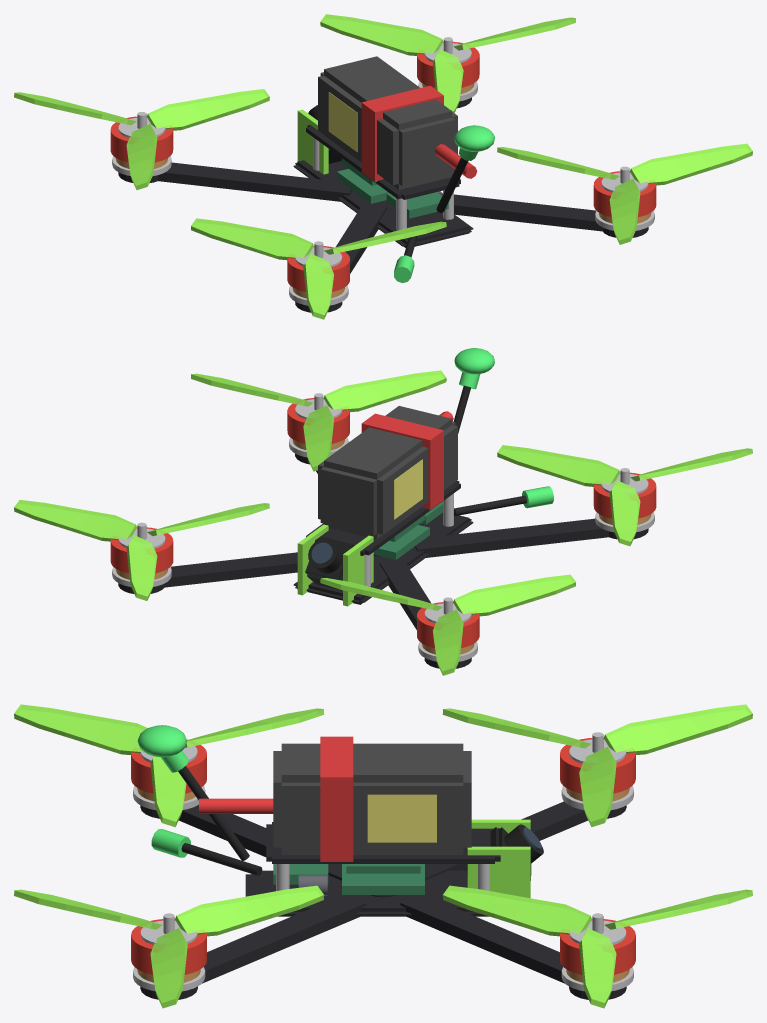
Rendered from racer5.glb.
The picture shows the model from 3 angles, top to bottom: view 1: azimuth 30°, elevation 25°; view 2: azimuth 150°, elevation 25°; view 3: azimuth 270°, elevation 25°; orthographic projection. The views are drawn at different scales.
Parts seen in each view (by area): view 1: body, prop_FL, prop_RL, prop_RR, prop_FR, cam_mount; view 2: body, prop_RL, prop_FL, prop_FR, prop_RR, cam_mount, fpv_cam; view 3: body, prop_FL, prop_FR, prop_RR, prop_RL, cam_mount, fpv_cam.
Part boxes in pixels (<box>): body: <box>110,37,656,312</box>; prop_FL: <box>14,89,386,200</box>; prop_RL: <box>191,218,446,319</box>; prop_RR: <box>497,143,752,244</box>; prop_FR: <box>320,14,575,112</box>; cam_mount: <box>297,109,328,174</box>; body: <box>110,348,656,668</box>; prop_RL: <box>497,445,752,546</box>; prop_FL: <box>320,555,575,675</box>; prop_FR: <box>14,500,269,600</box>; prop_RR: <box>191,370,446,471</box>; cam_mount: <box>297,524,373,606</box>; fpv_cam: <box>305,536,354,590</box>; body: <box>131,725,635,999</box>; prop_FL: <box>371,704,752,897</box>; prop_FR: <box>442,885,752,1008</box>; prop_RR: <box>14,885,324,1008</box>; prop_RL: <box>14,704,324,827</box>; cam_mount: <box>467,819,530,898</box>; fpv_cam: <box>467,824,543,880</box>.
Bounding box in the file's own units: 0.2531 × 0.0715 × 0.2682.
